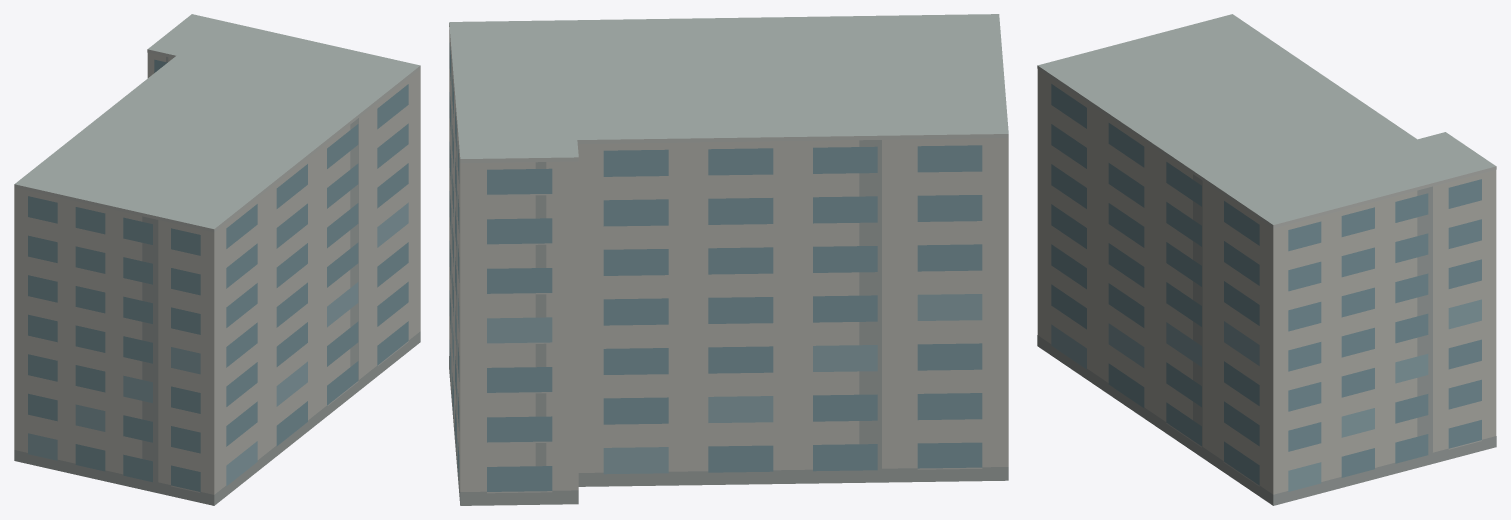
Rendered from residential-ca0c88cf-aabb-4e6b-b3ef-f3d4468232a8.glb.
3 views of the same model, side by side, from view 1: azimuth 30°, elevation 25°; view 2: azimuth 150°, elevation 25°; view 3: azimuth 270°, elevation 25° (orthographic). The views are drawn at different scales.
Parts seen in each view (by area): view 1: residential-ca0c88cf-aabb-4e6b-b3ef-f3d4468232a8.tmp; view 2: residential-ca0c88cf-aabb-4e6b-b3ef-f3d4468232a8.tmp; view 3: residential-ca0c88cf-aabb-4e6b-b3ef-f3d4468232a8.tmp.
Part boxes in pixels (x1,y1,x2,y2): residential-ca0c88cf-aabb-4e6b-b3ef-f3d4468232a8.tmp: (14, 14, 420, 505); residential-ca0c88cf-aabb-4e6b-b3ef-f3d4468232a8.tmp: (449, 14, 1008, 505); residential-ca0c88cf-aabb-4e6b-b3ef-f3d4468232a8.tmp: (1037, 14, 1496, 505).
Bounding box in the file's own units: 32.83 × 20.35 × 30.16.
